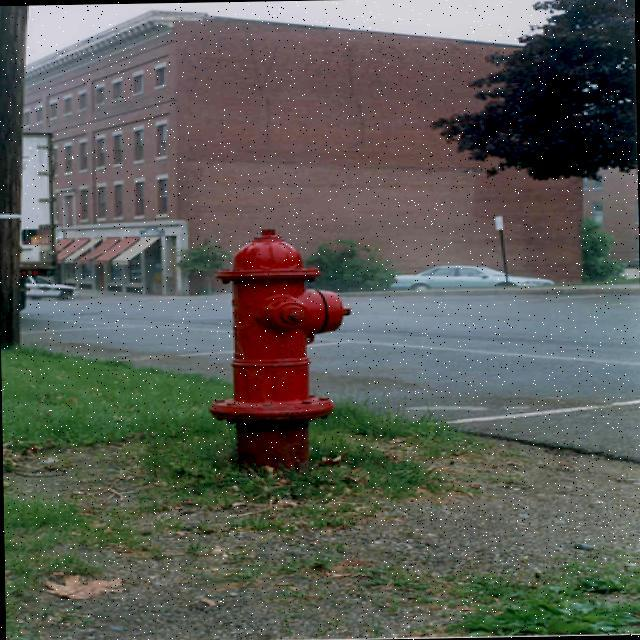fire_hydrant: (206, 229, 352, 472)
